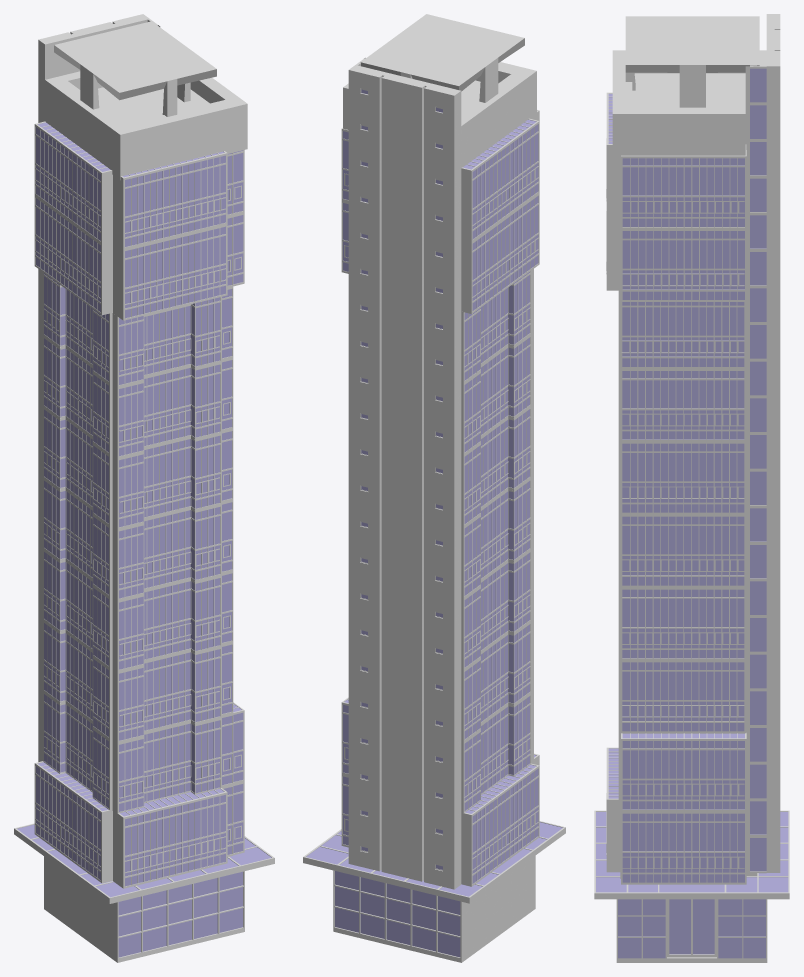
File: skyscraper1.fbx
3 renders of one model, left to right at view 1: azimuth 30°, elevation 25°; view 2: azimuth 150°, elevation 25°; view 3: azimuth 270°, elevation 25°, orthographic. The views are drawn at different scales.
Parts seen in each view (by area): view 1: skyscraper1; view 2: skyscraper1; view 3: skyscraper1.
Part boxes in pixels (<box>): skyscraper1: <box>14,14,274,962</box>; skyscraper1: <box>303,14,565,962</box>; skyscraper1: <box>594,14,789,962</box>.
Bounding box in the file's own units: 2000 × 10000 × 2000.
